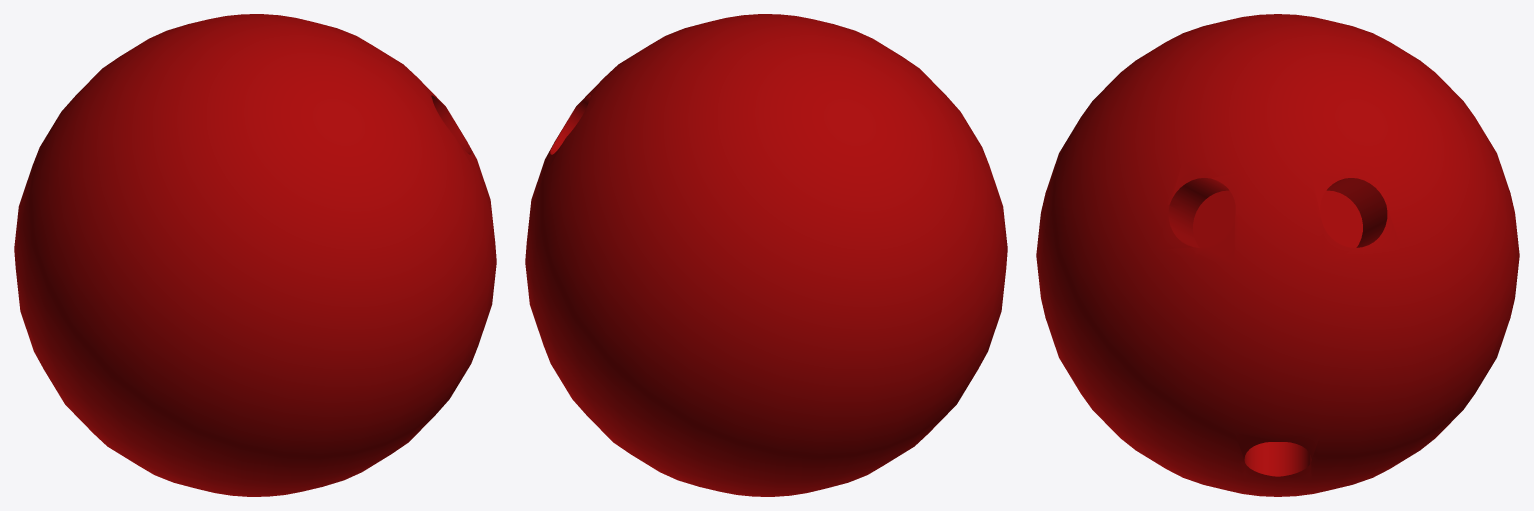
Rendered from bowling_ball.obj.
3 renders of one model, left to right at view 1: azimuth 30°, elevation 25°; view 2: azimuth 150°, elevation 25°; view 3: azimuth 270°, elevation 25°, orthographic.
Parts seen in each view (by area): view 1: bowling_ball; view 2: bowling_ball; view 3: bowling_ball.
Part boxes in pixels (x1=…): bowling_ball: x1=14, y1=14, x2=496, y2=496; bowling_ball: x1=525, y1=14, x2=1007, y2=496; bowling_ball: x1=1036, y1=14, x2=1519, y2=496.
Bounding box in the file's own units: 0.21 × 0.21 × 0.21.
